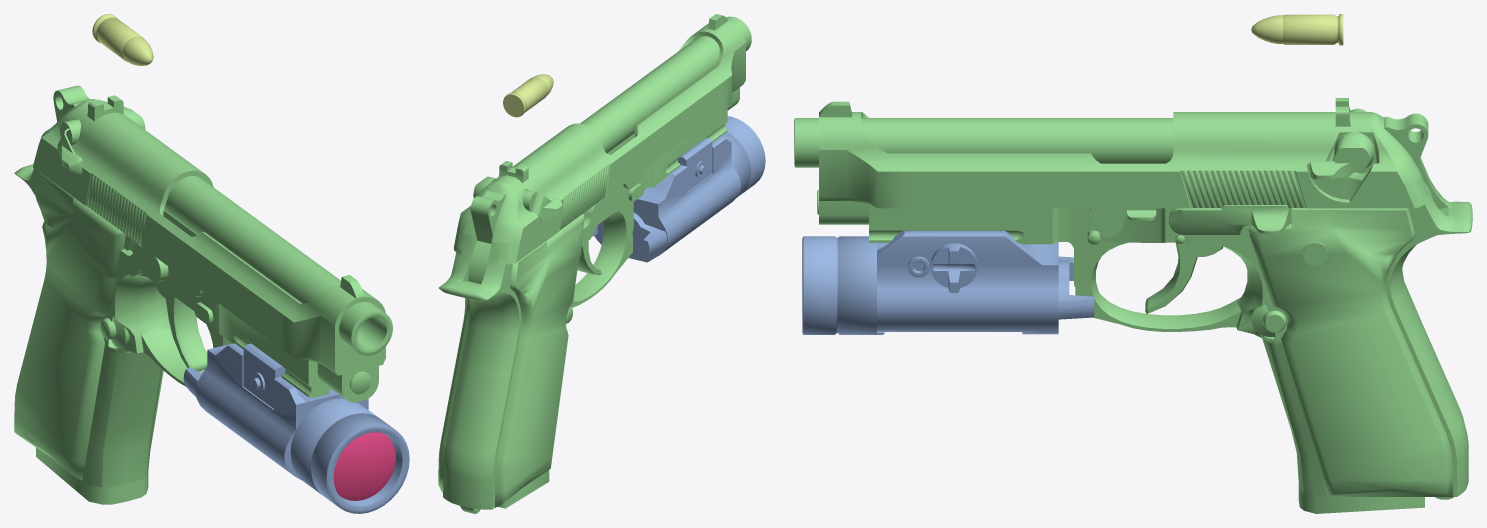
Rendered from WPN_M9.FBX.
The picture shows the model from 3 angles, left to right: view 1: azimuth 30°, elevation 25°; view 2: azimuth 150°, elevation 25°; view 3: azimuth 270°, elevation 25°; orthographic projection. The views are drawn at different scales.
Visible parts, largest first — view 1: WPN_M9, WPN_M9_Slide, WPN_PistolFlashLight, WPN_M9_barrel, WPN_PistolFlashLight_lense, WPN_M9_trigger, cal_9mm, WPN_M9_magazine, WPN_M9_Safety, WPN_M9_Hammer; view 2: WPN_M9, WPN_M9_Slide, WPN_PistolFlashLight, WPN_M9_barrel, WPN_M9_Hammer, cal_9mm, WPN_M9_Safety, WPN_M9_magazine, WPN_M9_trigger; view 3: WPN_M9, WPN_M9_Slide, WPN_PistolFlashLight, WPN_M9_barrel, cal_9mm, WPN_M9_Safety, WPN_M9_magazine, WPN_M9_trigger, WPN_M9_Hammer.
Part boxes in pixels (bbox=[...]): WPN_M9: bbox=[14, 164, 371, 487]; WPN_M9_Slide: bbox=[33, 95, 385, 402]; WPN_PistolFlashLight: bbox=[183, 343, 409, 513]; WPN_M9_barrel: bbox=[164, 176, 392, 355]; WPN_PistolFlashLight_lense: bbox=[333, 432, 395, 500]; WPN_M9_trigger: bbox=[154, 282, 207, 371]; cal_9mm: bbox=[92, 14, 153, 65]; WPN_M9_magazine: bbox=[36, 447, 148, 504]; WPN_M9_Safety: bbox=[57, 107, 145, 174]; WPN_M9_Hammer: bbox=[53, 85, 90, 121]; WPN_M9: bbox=[438, 108, 727, 513]; WPN_M9_Slide: bbox=[454, 14, 745, 264]; WPN_PistolFlashLight: bbox=[592, 116, 765, 262]; WPN_M9_barrel: bbox=[580, 16, 751, 152]; WPN_M9_Hammer: bbox=[468, 190, 505, 283]; cal_9mm: bbox=[503, 74, 553, 117]; WPN_M9_Safety: bbox=[473, 176, 563, 220]; WPN_M9_magazine: bbox=[498, 470, 549, 508]; WPN_M9_trigger: bbox=[577, 241, 601, 274]; WPN_M9: bbox=[817, 157, 1472, 499]; WPN_M9_Slide: bbox=[819, 98, 1429, 224]; WPN_PistolFlashLight: bbox=[802, 230, 1094, 334]; WPN_M9_barrel: bbox=[794, 118, 1173, 167]; cal_9mm: bbox=[1251, 14, 1343, 45]; WPN_M9_Safety: bbox=[1310, 108, 1374, 179]; WPN_M9_magazine: bbox=[1298, 483, 1424, 513]; WPN_M9_trigger: bbox=[1145, 242, 1223, 313]; WPN_M9_Hammer: bbox=[1384, 113, 1433, 200].
Size of the model in its own units: 4.16 by 17.33 by 21.99.
